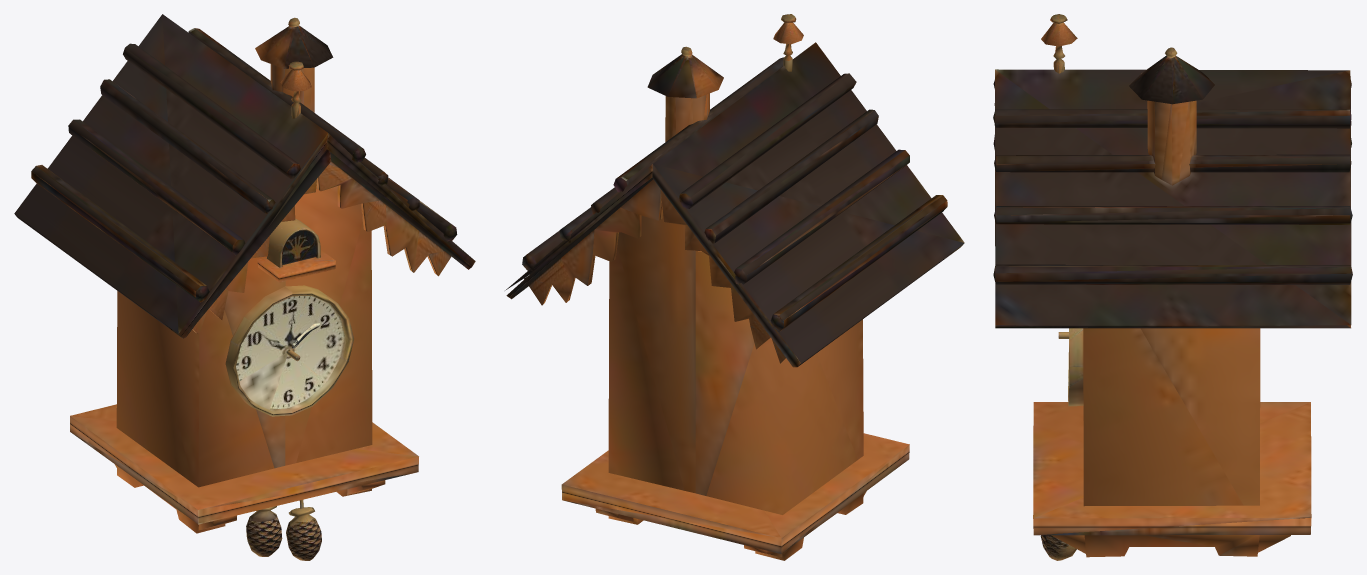
The model's file is keepsake-cuckoo-clock.glb.
The picture shows the model from 3 angles, left to right: view 1: azimuth 30°, elevation 25°; view 2: azimuth 150°, elevation 25°; view 3: azimuth 270°, elevation 25°; orthographic projection. The views are drawn at different scales.
Parts seen in each view (by area): view 1: keepsake-cuckoo-clock; view 2: keepsake-cuckoo-clock; view 3: keepsake-cuckoo-clock.
Part boxes in pixels (<box>): keepsake-cuckoo-clock: <box>14,14,475,560</box>; keepsake-cuckoo-clock: <box>505,14,964,560</box>; keepsake-cuckoo-clock: <box>993,14,1352,560</box>.
Bounding box in the file's own units: 0.5611 × 0.9 × 0.5449.
1 material, 1 textured.
